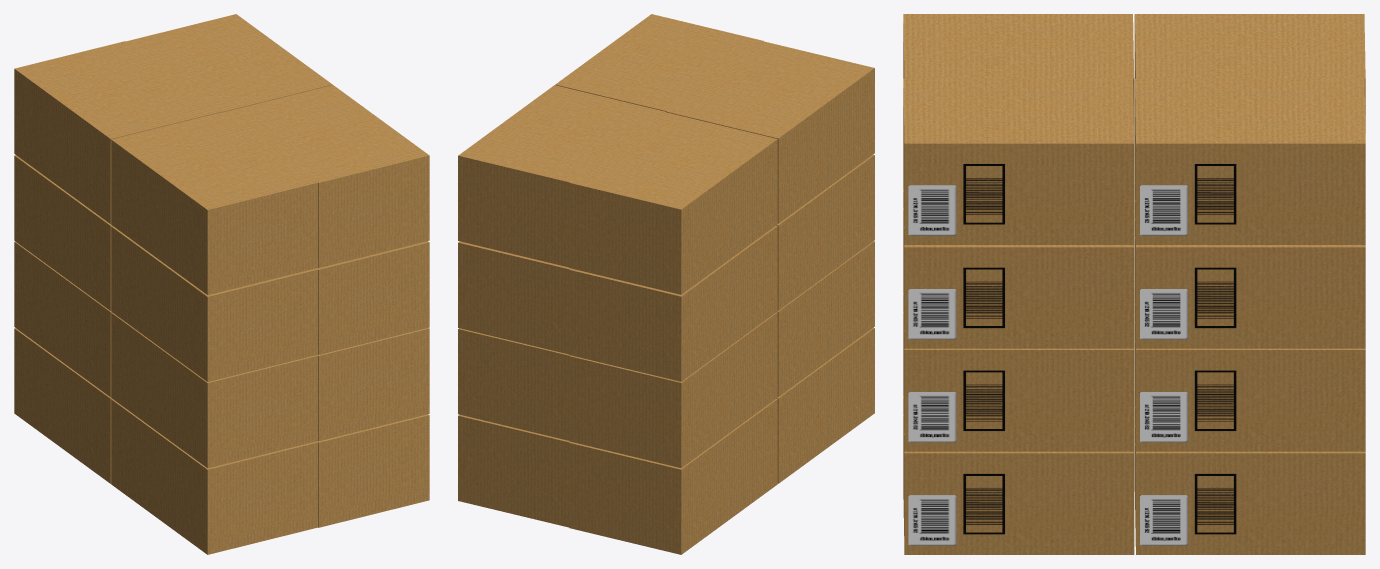
File: ClutteringD_01.glb
The picture shows the model from 3 angles, left to right: view 1: azimuth 30°, elevation 25°; view 2: azimuth 150°, elevation 25°; view 3: azimuth 270°, elevation 25°; orthographic projection. The views are drawn at different scales.
Parts seen in each view (by area): view 1: aws_robomaker_warehouse_ClutteringD_01_visual; view 2: aws_robomaker_warehouse_ClutteringD_01_visual; view 3: aws_robomaker_warehouse_ClutteringD_01_visual.
Part boxes in pixels (<box>): aws_robomaker_warehouse_ClutteringD_01_visual: <box>14,14,429,554</box>; aws_robomaker_warehouse_ClutteringD_01_visual: <box>458,14,874,554</box>; aws_robomaker_warehouse_ClutteringD_01_visual: <box>903,14,1365,554</box>.
Size of the model in its own units: 0.9959 by 1.47 by 1.5.
3 materials, 3 textured.
